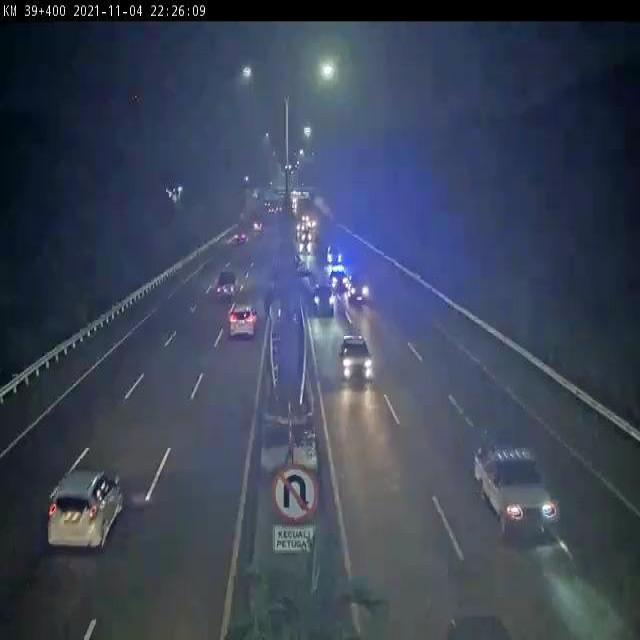car: (475, 416, 564, 548), (38, 446, 134, 558), (335, 325, 381, 391), (334, 268, 375, 320), (225, 301, 261, 348), (308, 276, 338, 328), (211, 267, 241, 305)
